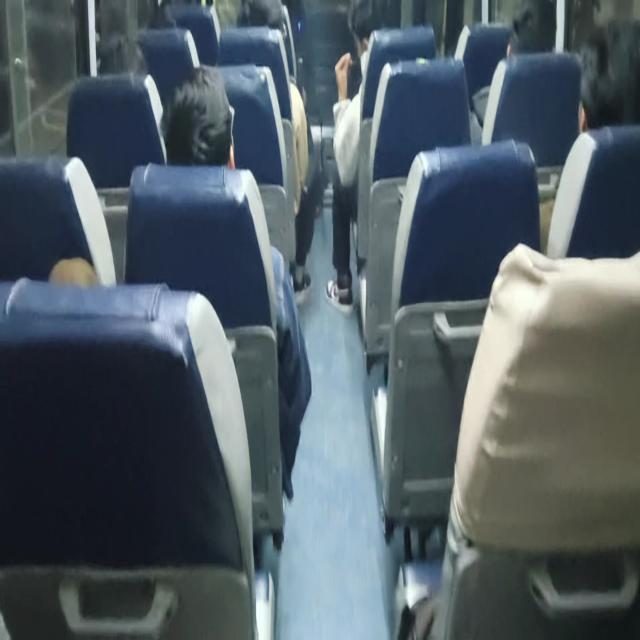person: (161, 90, 252, 164), (94, 34, 159, 132), (576, 36, 636, 136), (232, 6, 300, 61), (501, 15, 555, 74), (343, 2, 391, 57), (144, 5, 192, 38)
